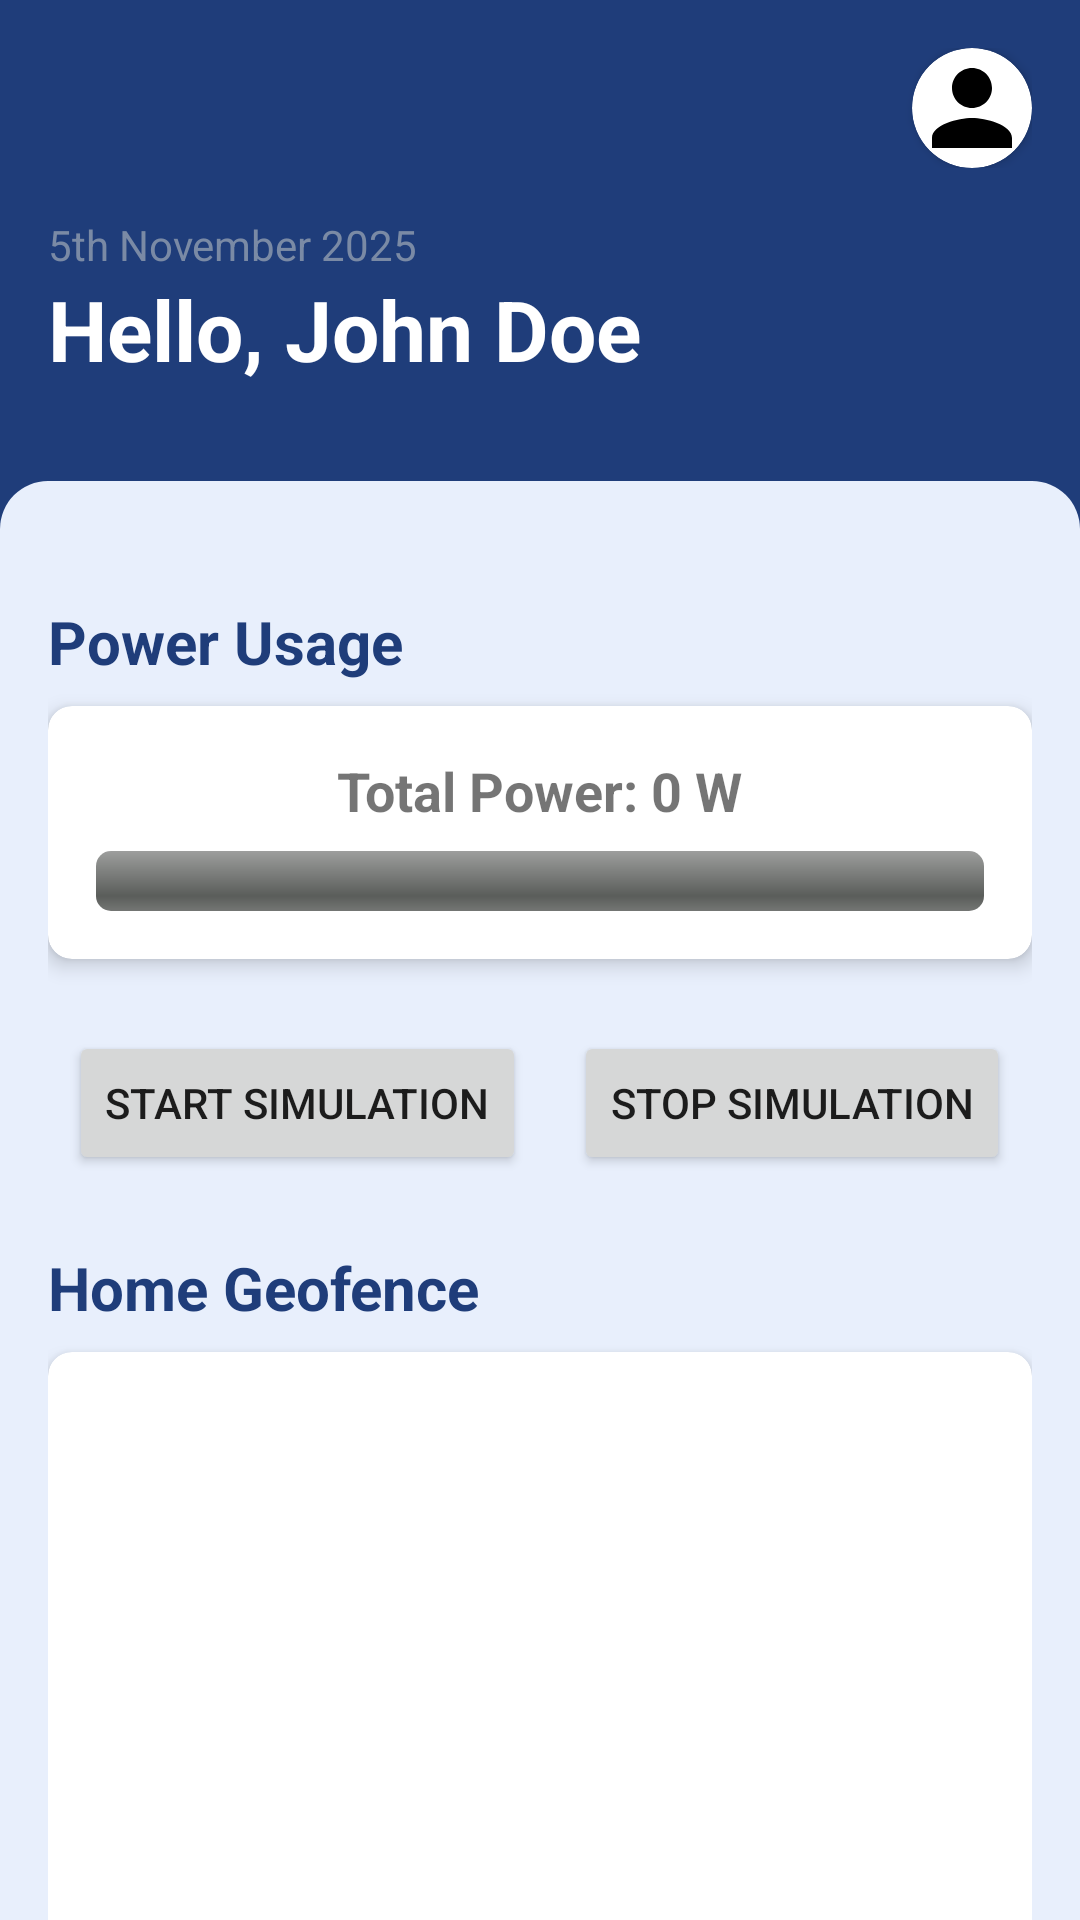

Named icons in this screenshot (1080 x 1920) and their centers, (x,y):
User profile picture: (972,108)
